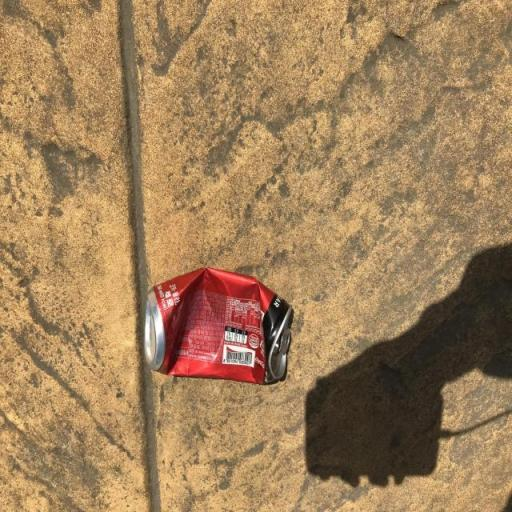metal: (126, 261, 304, 400)
